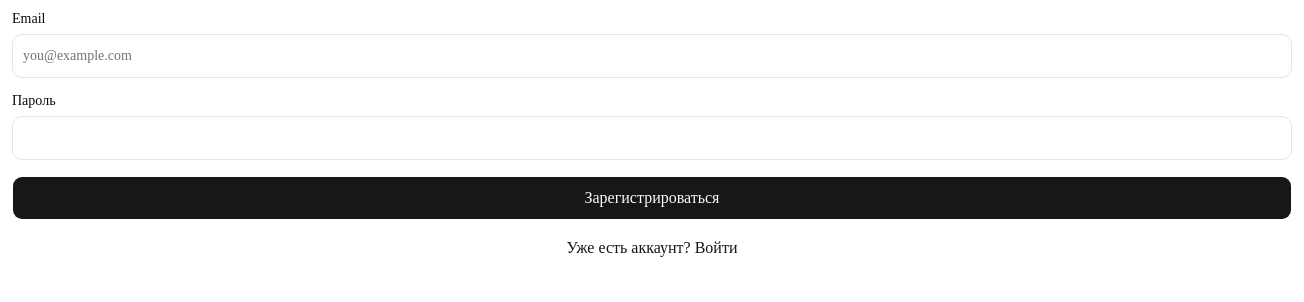
Scenario: RegisterForm › показывает «Введите корректный email» при неверном email
This screenshot has width=1304, height=302.
In the field labelled "Email": {"x": 652, "y": 56} [12,34,1292,78], type "not-an-email"
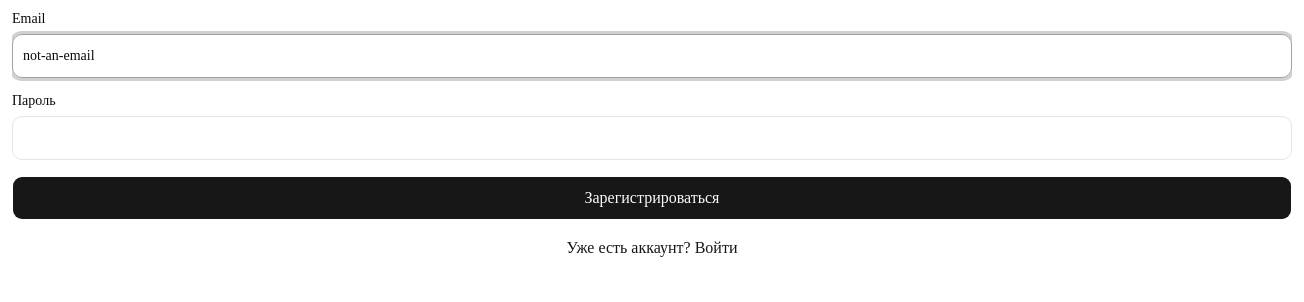
In the password field labelled "Пароль": {"x": 652, "y": 138} [12,116,1292,160], type "password123"
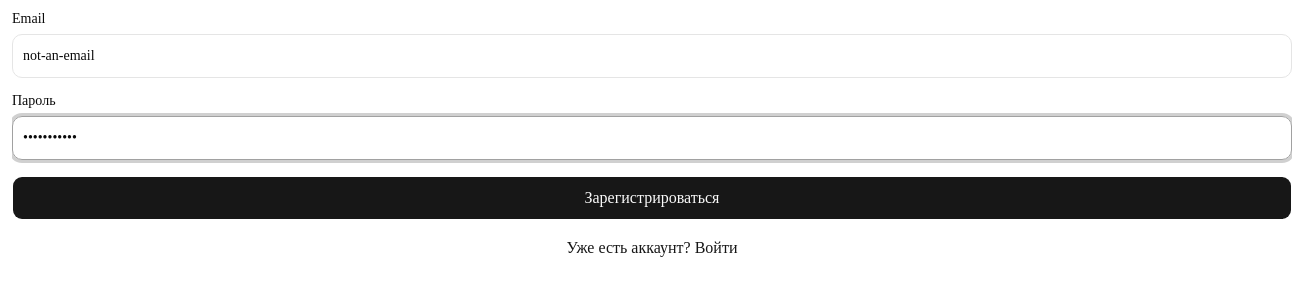
Click the button "Зарегистрироваться": {"x": 652, "y": 198} [12,176,1292,220]
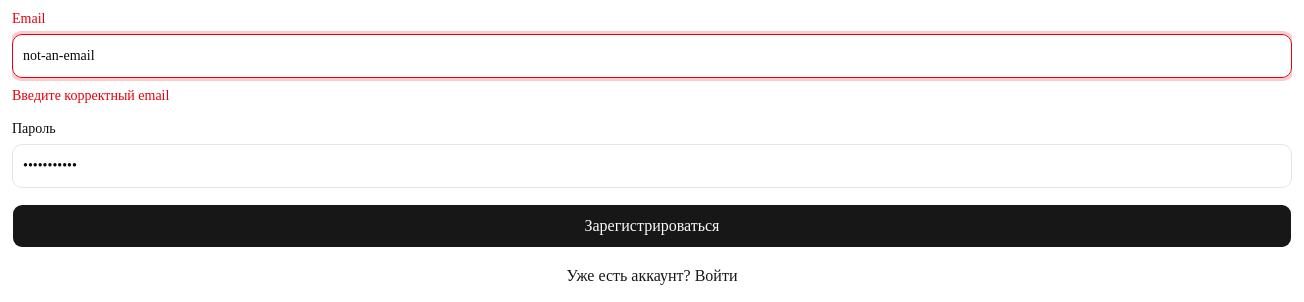
expect the text "Введите корректный email" is shown: met, box [12,88,169,103]
